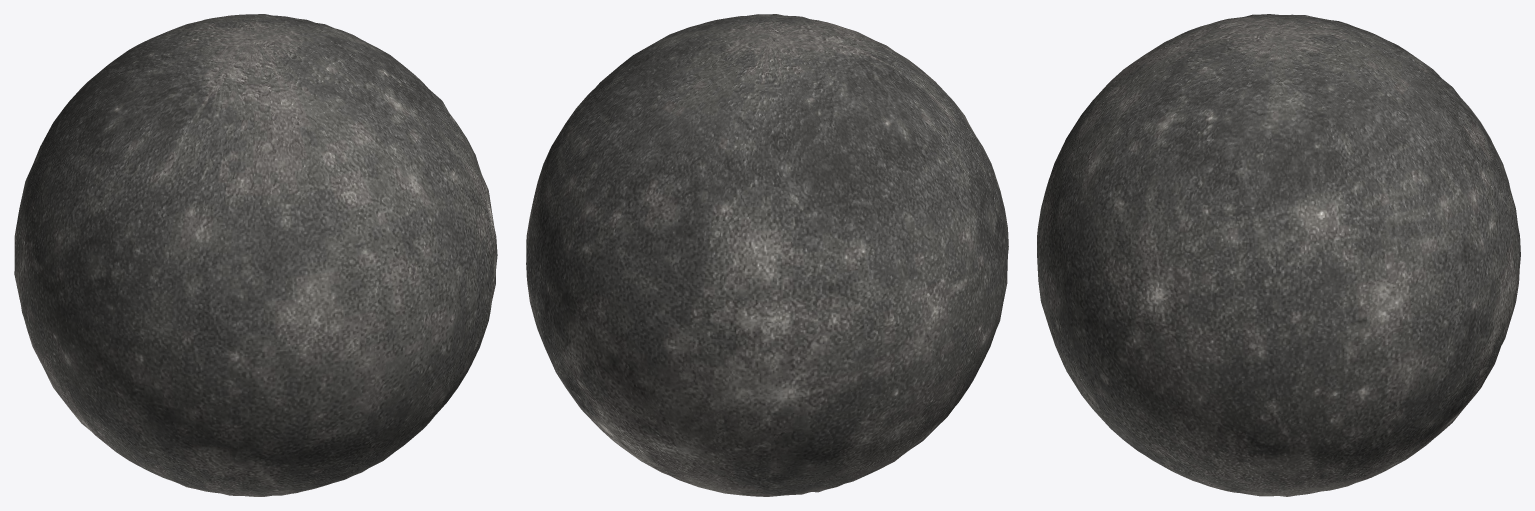
File: mercury.glb
3 renders of one model, left to right at view 1: azimuth 30°, elevation 25°; view 2: azimuth 150°, elevation 25°; view 3: azimuth 270°, elevation 25°, orthographic.
Parts seen in each view (by area): view 1: mercury; view 2: mercury; view 3: mercury.
Part boxes in pixels (x1,y1,x2,y2): mercury: (14, 14, 497, 496); mercury: (526, 14, 1008, 496); mercury: (1037, 14, 1520, 496).
Size of the model in its own units: 2 by 2 by 2.01.
Materials: 1 (1 with a texture image).
